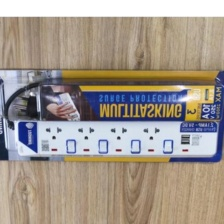book: (0, 67, 224, 163)
three_eye_plug: (10, 115, 220, 158)
